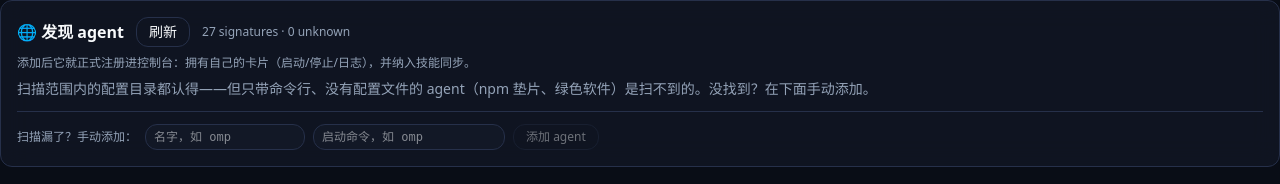
Test: N-R2: honest discovery + manual add › manual add registers a missed agent with its launch command
This screenshot has width=1280, height=184.
Type "omp" into the field with test id "manual-label".
click(225, 137); type("omp")  # box [145,124,305,150]
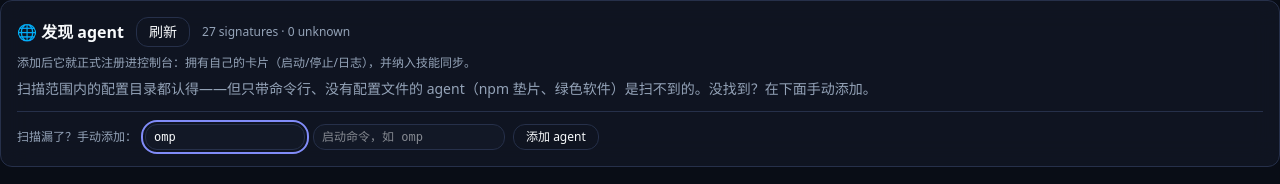
Type "omp" into the field with test id "manual-cmd".
click(409, 137); type("omp")  # box [313,124,505,150]
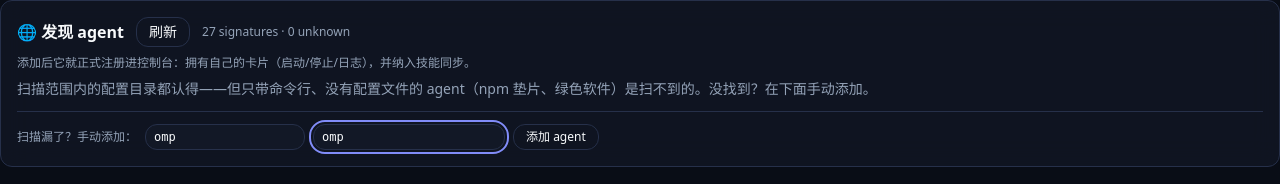
Click the button with test id "manual-add".
click(556, 137)  # box [513,124,599,150]
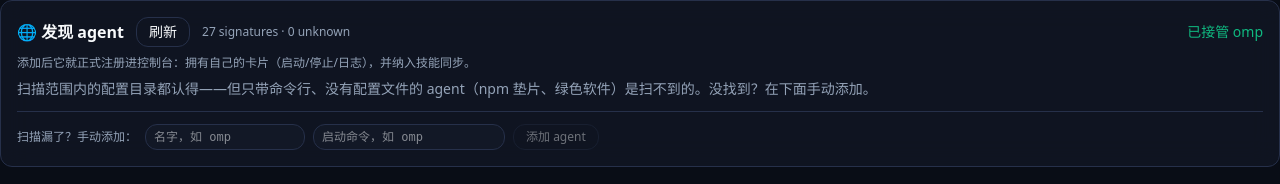
Check: the text "已接管 omp" is shown, box [1187,22,1263,42]
